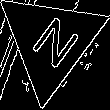N_SW: (21, 10, 80, 75)
